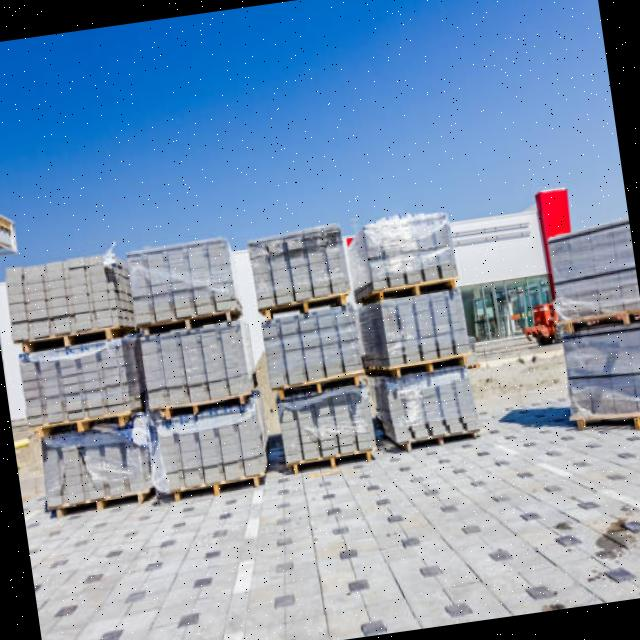Wooden-Pallets: (19, 317, 125, 357), (34, 406, 134, 444), (139, 306, 234, 342), (170, 472, 264, 503), (374, 272, 461, 304), (262, 296, 351, 326)
